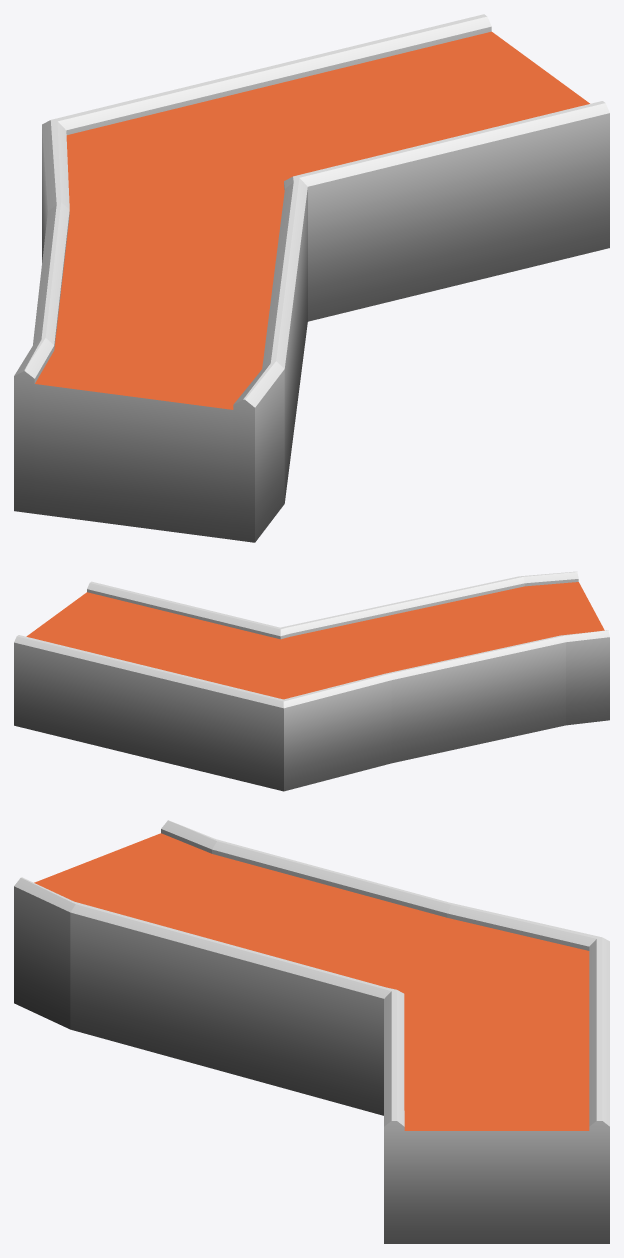
Rendered from Y_Intersect_Pavement_Right.fbx.
The picture shows the model from 3 angles, top to bottom: view 1: azimuth 30°, elevation 25°; view 2: azimuth 150°, elevation 25°; view 3: azimuth 270°, elevation 25°; orthographic projection. The views are drawn at different scales.
Parts seen in each view (by area): view 1: Y_Intersect_Pavement_Right; view 2: Y_Intersect_Pavement_Right; view 3: Y_Intersect_Pavement_Right.
Part boxes in pixels (x1,y1,x2,y2): Y_Intersect_Pavement_Right: (14,14,609,542); Y_Intersect_Pavement_Right: (14,571,609,791); Y_Intersect_Pavement_Right: (14,820,609,1243).
Size of the model in its own units: 257 by 48.52 by 213.
